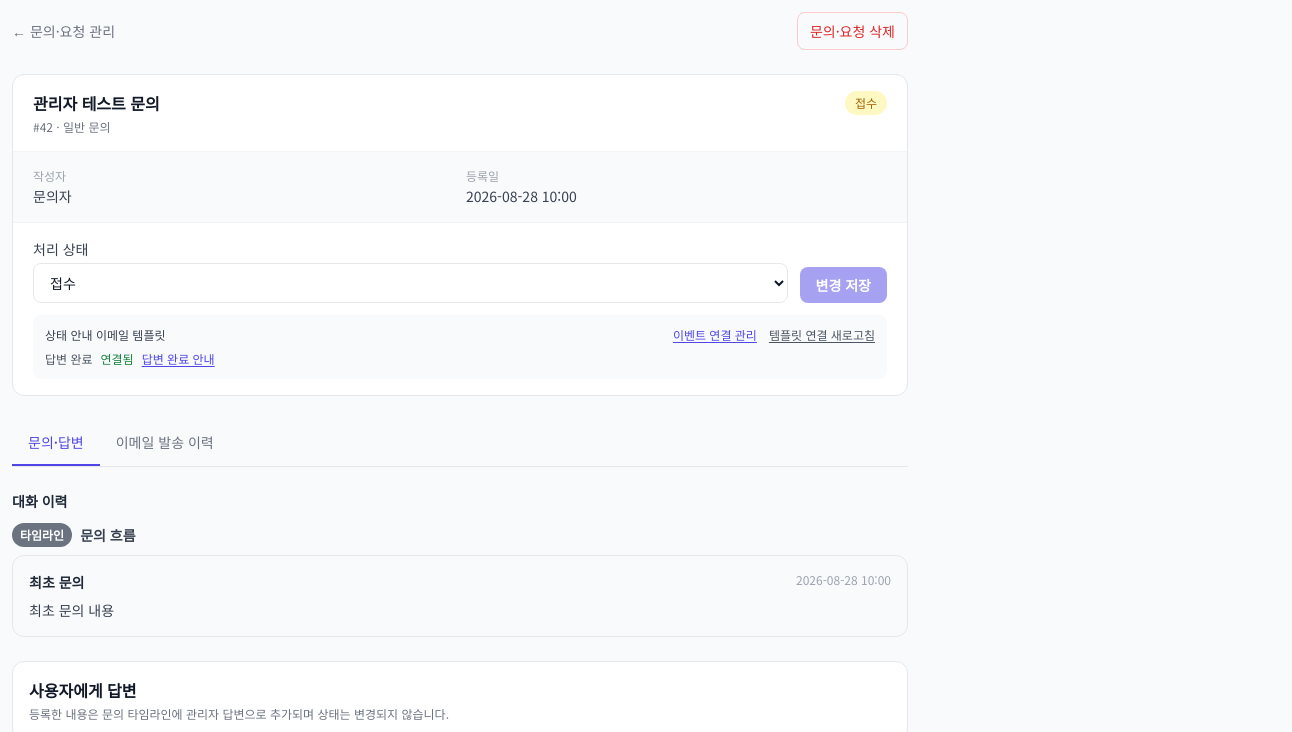
Test: AdminInquiryDetailPage › 기본정보에서 변경 저장 후 현재 상태와 성공 메시지를 표시한다
Select "검토 중" in the dropdown labelled "처리 상태" at [410, 283], box [33,263,788,303]
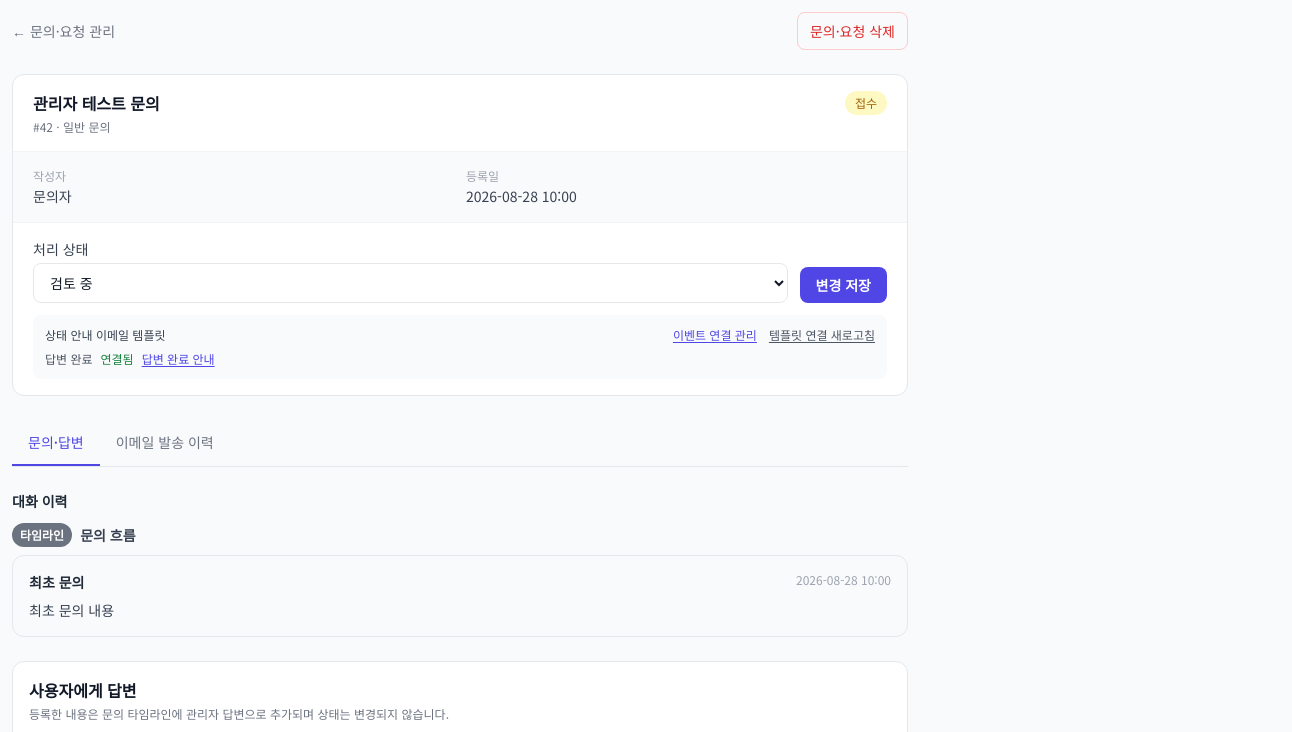
Click the button "변경 저장" at [843, 285], box [800,267,887,303]
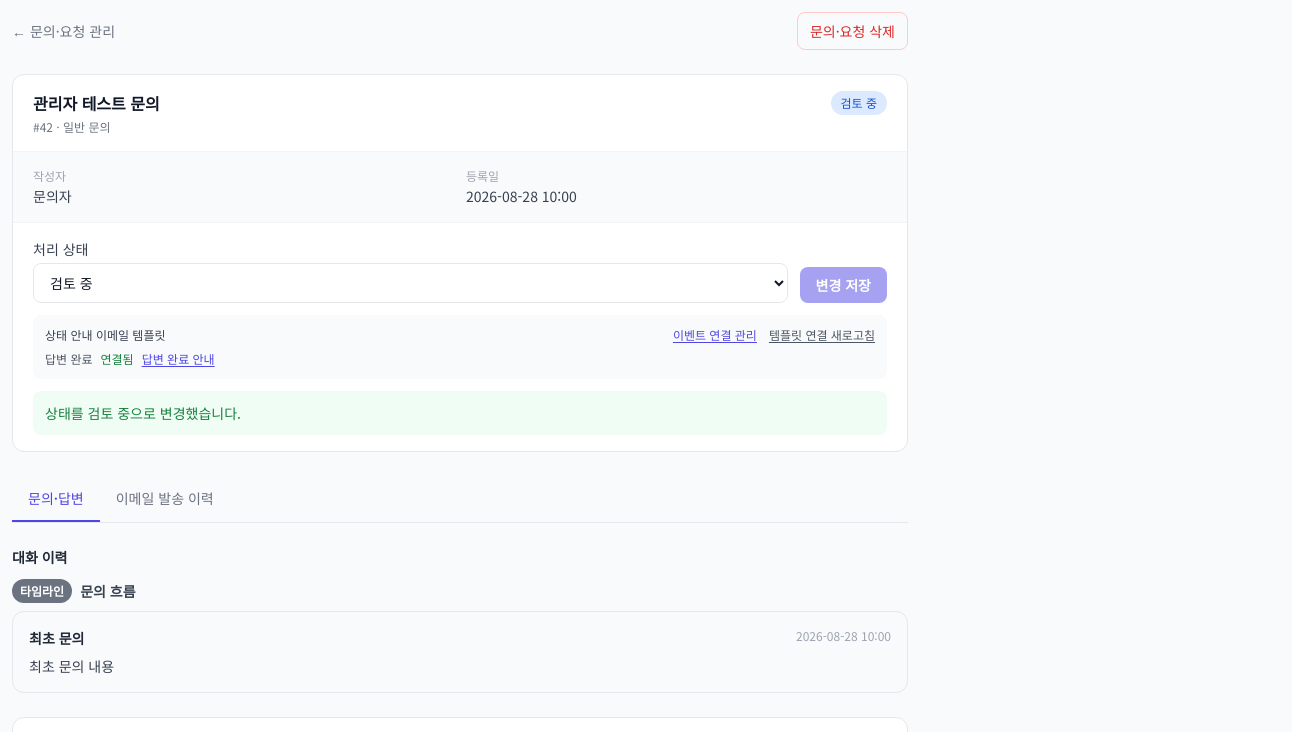
expect the text "상태를 검토 중으로 변경했습니다." is shown: met, box [33,391,887,435]
expect the button "변경 저장" is disabled: met, box [800,267,887,303]
